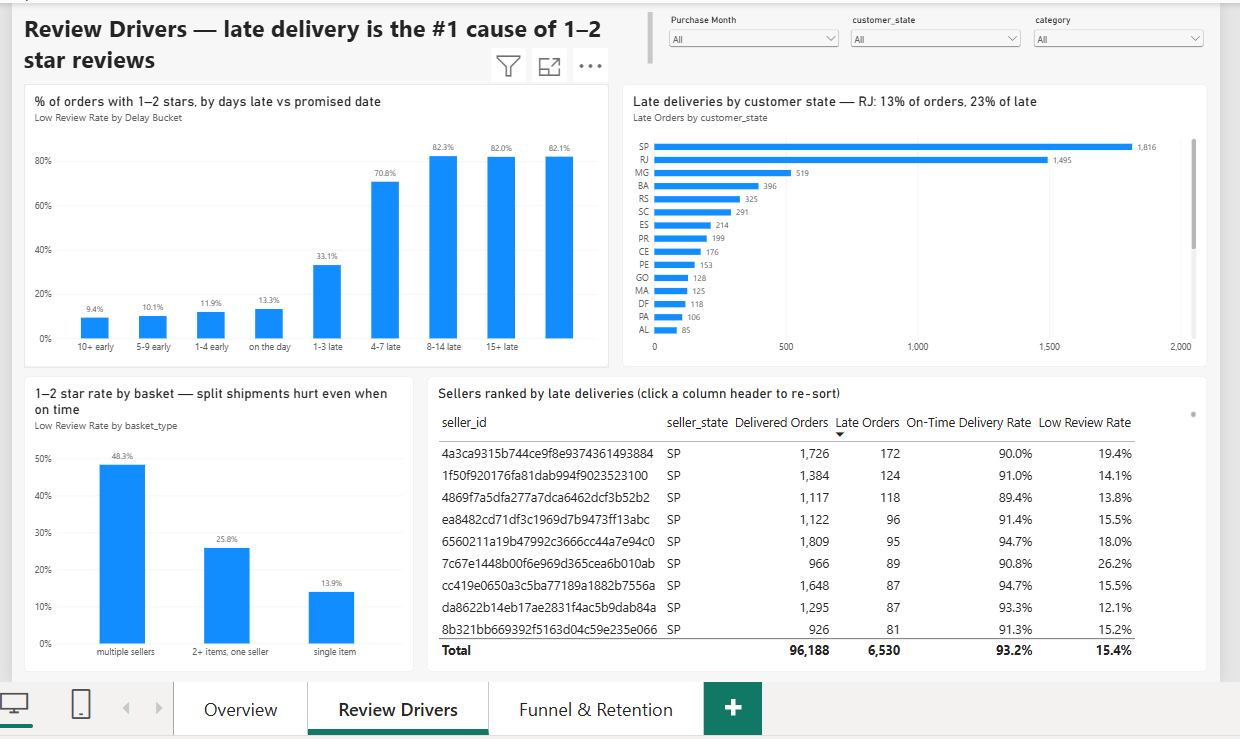

Layout of this report page (visuals, bound fields, positions):
{"tool":"powerbi","page":{"name":"Review Drivers","canvas":[1920,1080],"ordinal":1},"visuals":[{"type":"slicer","fields":{"Values":["fact_orders.Purchase Month"]},"box":[1040,20,280,80],"z":0},{"type":"slicer","fields":{"Values":["fact_orders.category"]},"box":[1620,20,280,80],"z":1},{"type":"slicer","fields":{"Values":["fact_orders.customer_state"]},"box":[1330,20,280,80],"z":2},{"type":"textbox","box":[20,15,1000,90],"z":3},{"type":"clusteredColumnChart","title":"% of orders with 1–2 stars, by days late vs promised date","fields":{"Category":["fact_orders.Delay Bucket"],"Y":["fact_orders.Low Review Rate"]},"box":[20,130,930,450],"z":4},{"type":"clusteredBarChart","title":"Late deliveries by customer state — RJ: 13% of orders, 23% of late","fields":{"Category":["fact_orders.customer_state"],"Y":["fact_orders.Late Orders"]},"box":[970,130,930,450],"z":5},{"type":"clusteredColumnChart","title":"1–2 star rate by basket — split shipments hurt even when on time","fields":{"Category":["fact_orders.basket_type"],"Y":["fact_orders.Low Review Rate"]},"box":[20,595,620,470],"z":6},{"type":"tableEx","title":"Sellers ranked by late deliveries (click a column header to re-sort)","fields":{"Values":["fact_orders.seller_id","fact_orders.seller_state","fact_orders.Delivered Orders","fact_orders.Late Orders","fact_orders.On-Time Delivery Rate","fact_orders.Low Review Rate"]},"box":[660,595,1240,470],"z":7}]}

Visuals, with their boxes on the page's 1920x1080 design canvas (x1, y1, x2, y2). These are canvas units, not pixel positions in the 1240x739 screenshot, which may show the page scaled, cropped or inside an application window:
slicer - fact_orders.Purchase Month: 1040 20 1320 100
slicer - fact_orders.category: 1620 20 1900 100
slicer - fact_orders.customer_state: 1330 20 1610 100
textbox: 20 15 1020 105
"% of orders with 1–2 stars, by days late vs promised date" clusteredColumnChart: 20 130 950 580
"Late deliveries by customer state — RJ: 13% of orders, 23% of late" clusteredBarChart: 970 130 1900 580
"1–2 star rate by basket — split shipments hurt even when on time" clusteredColumnChart: 20 595 640 1065
"Sellers ranked by late deliveries (click a column header to re-sort)" tableEx: 660 595 1900 1065
